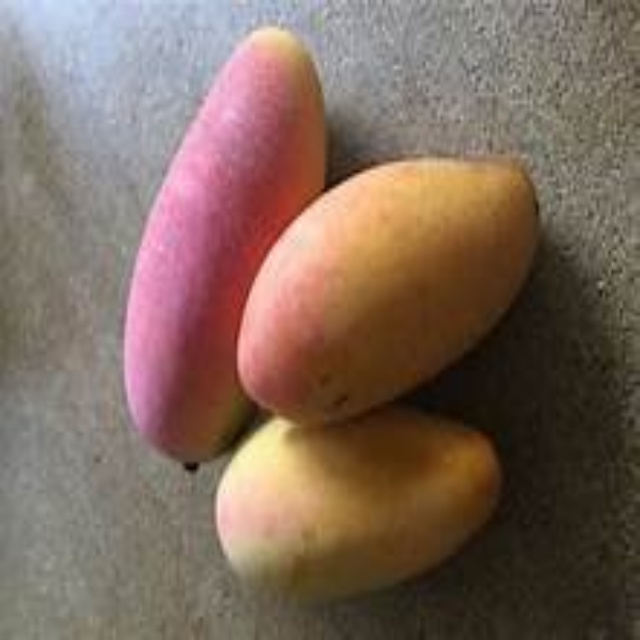mango: (131, 29, 327, 473), (240, 160, 538, 422), (202, 410, 509, 597)
